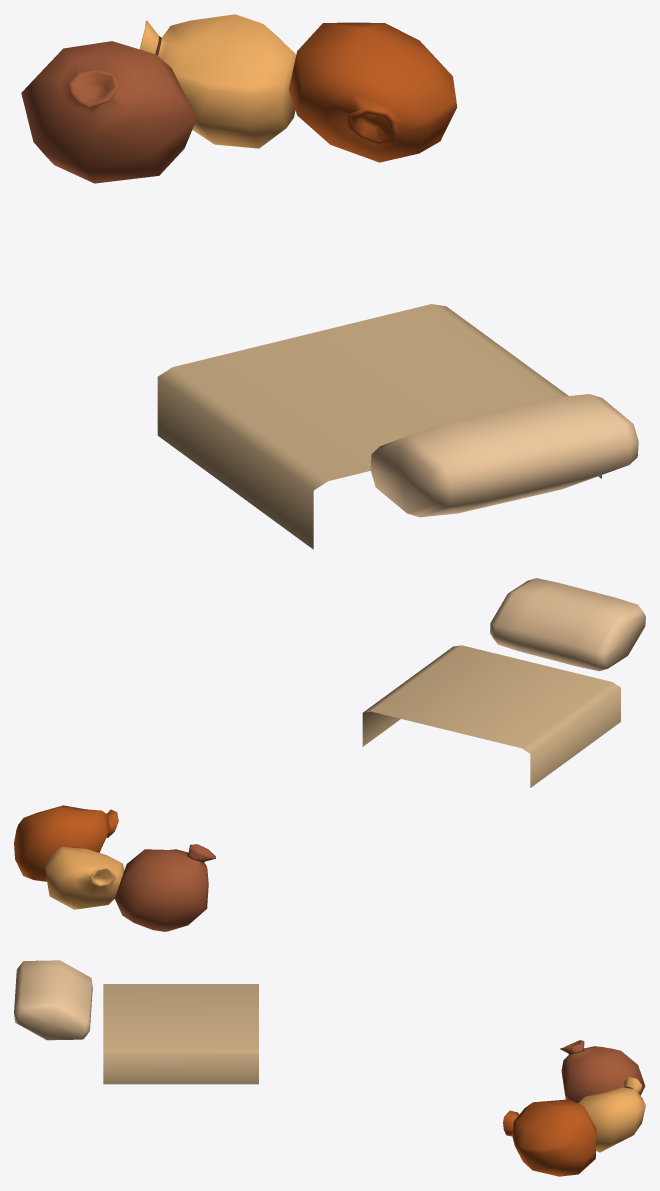
The picture shows the model from 3 angles, top to bottom: view 1: azimuth 30°, elevation 25°; view 2: azimuth 150°, elevation 25°; view 3: azimuth 270°, elevation 25°; orthographic projection. The views are drawn at different scales.
Visible parts, largest first — view 1: mr 2; view 2: mr 2; view 3: mr 2.
Boxes of the visible parts, bbox=[...] form: mr 2: bbox=[21, 14, 638, 549]; mr 2: bbox=[14, 578, 645, 931]; mr 2: bbox=[14, 960, 645, 1176].
Bounding box in the file's own units: 450 × 150 × 848.
